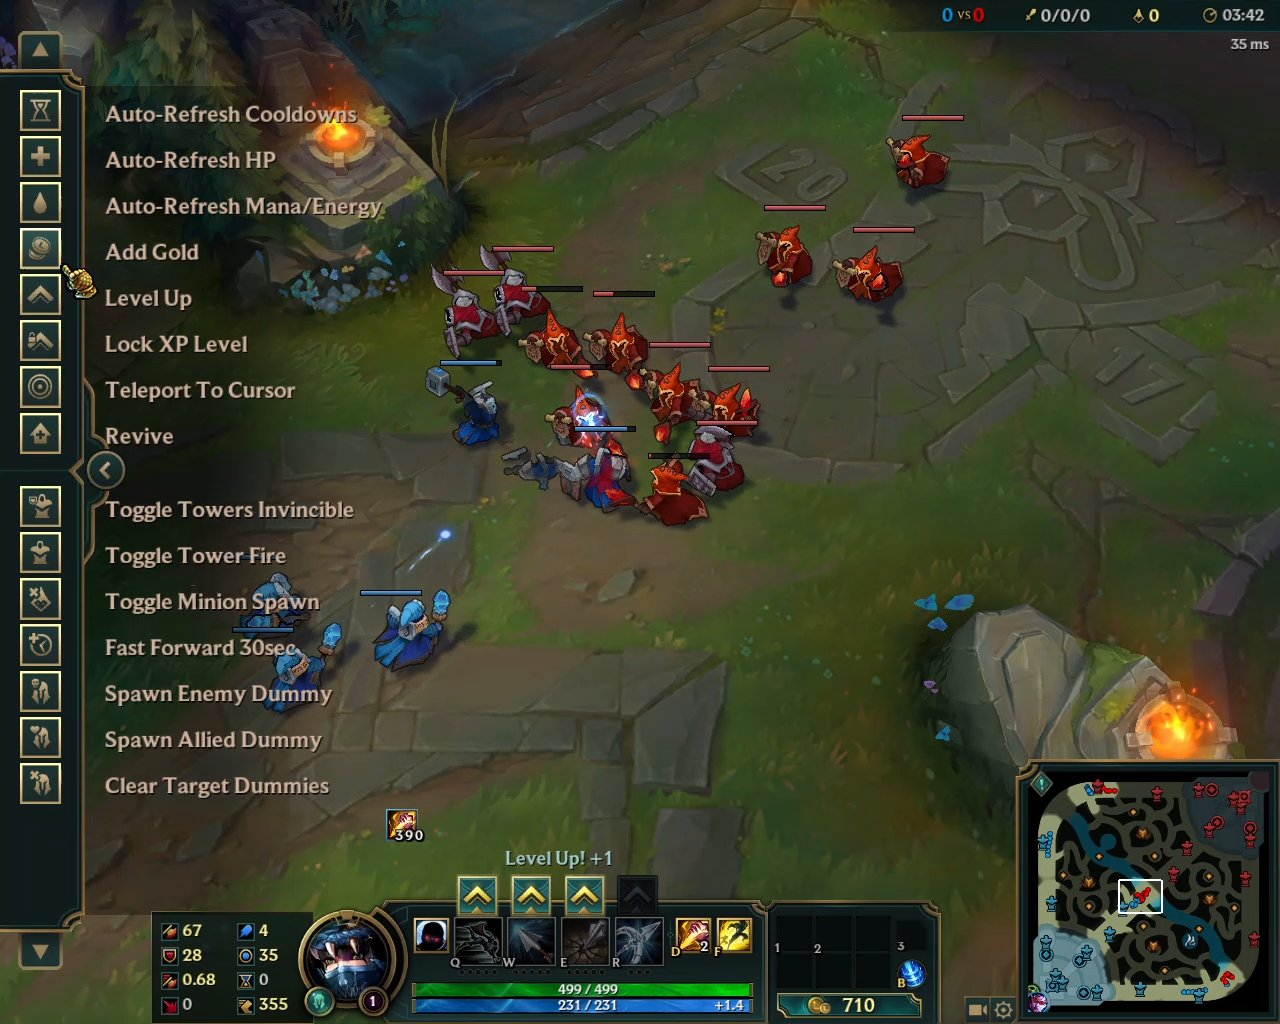EnemyMinion: (608, 449, 708, 530), (584, 289, 657, 393), (480, 243, 552, 341), (642, 342, 709, 443), (422, 269, 502, 353), (882, 113, 963, 192), (749, 204, 823, 290), (835, 226, 915, 304), (696, 364, 770, 446), (683, 417, 757, 494), (523, 284, 582, 368)
